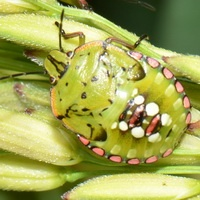insect: (0, 1, 199, 164), (44, 10, 199, 163)
